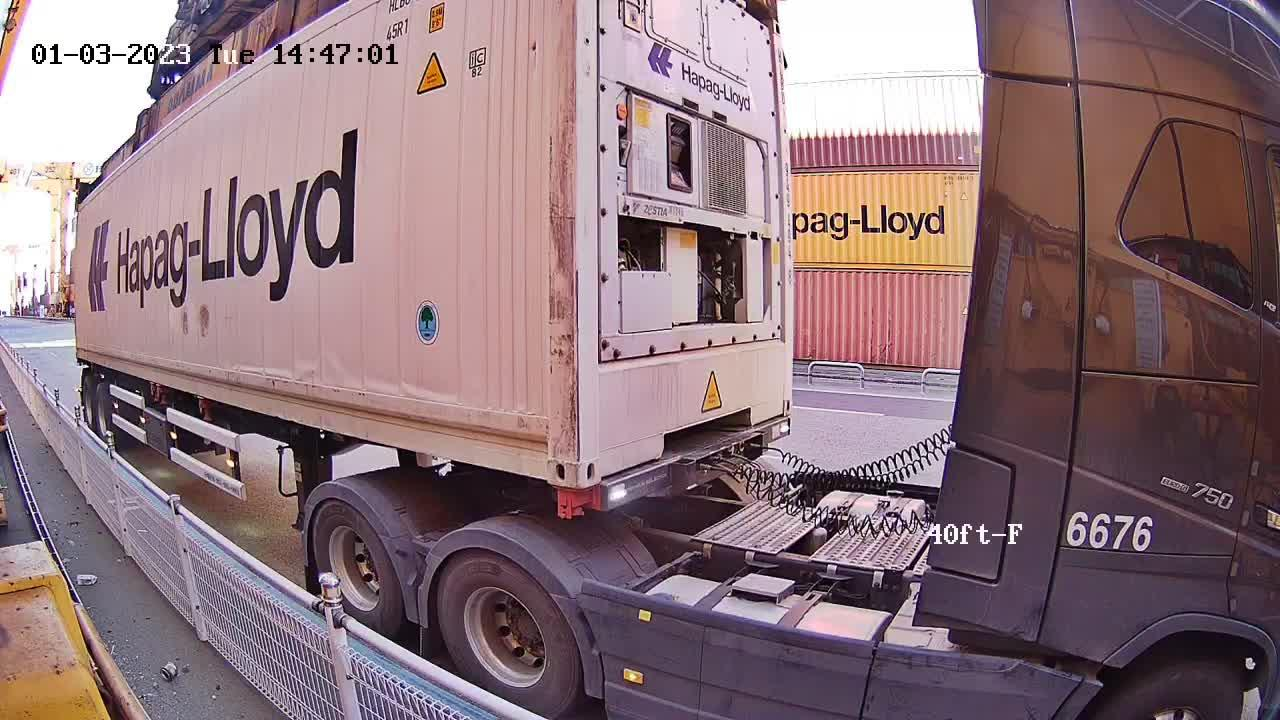Chassis: (590, 417, 792, 511)
Cone: (553, 484, 598, 518)
Hole_L: (579, 428, 618, 488)
Hole_R: (523, 428, 576, 488), (767, 382, 794, 420)
Tire: (436, 553, 576, 719), (315, 501, 401, 638)
